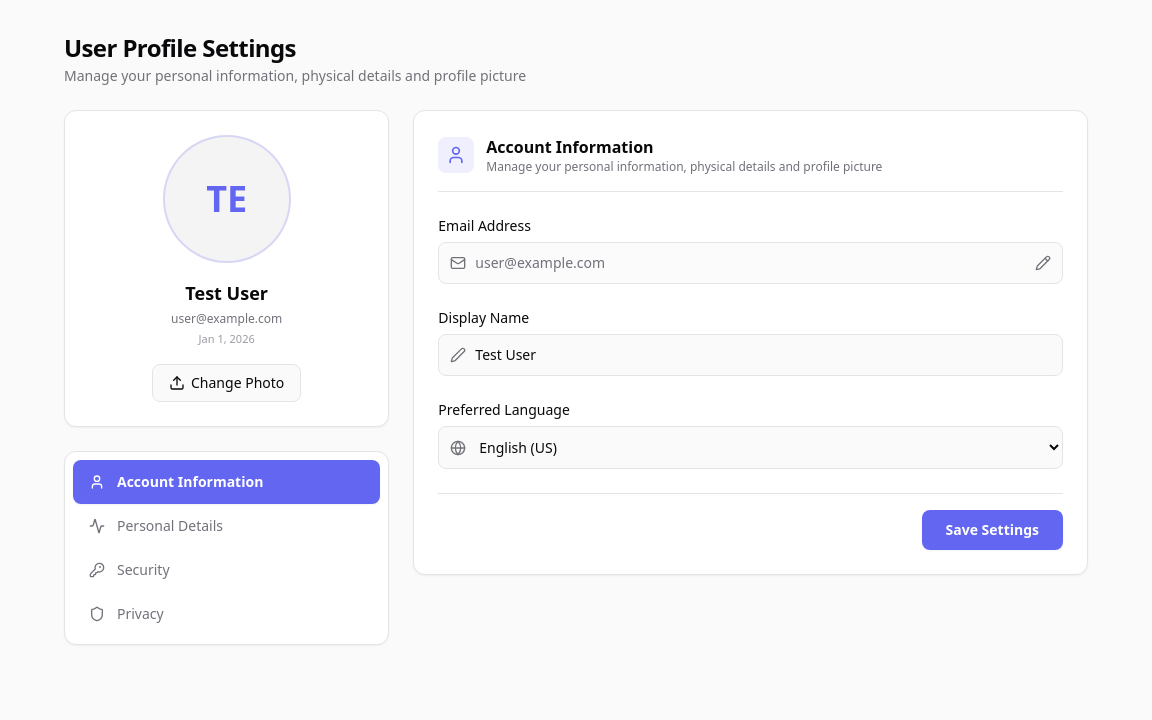
it: Profile Data Deletion and Account Removal › renders the Data Management & Privacy section with both deletion options
// Switch to Privacy tab
Click the tab "Privacy" at (140, 613), box [73,592,380,636]
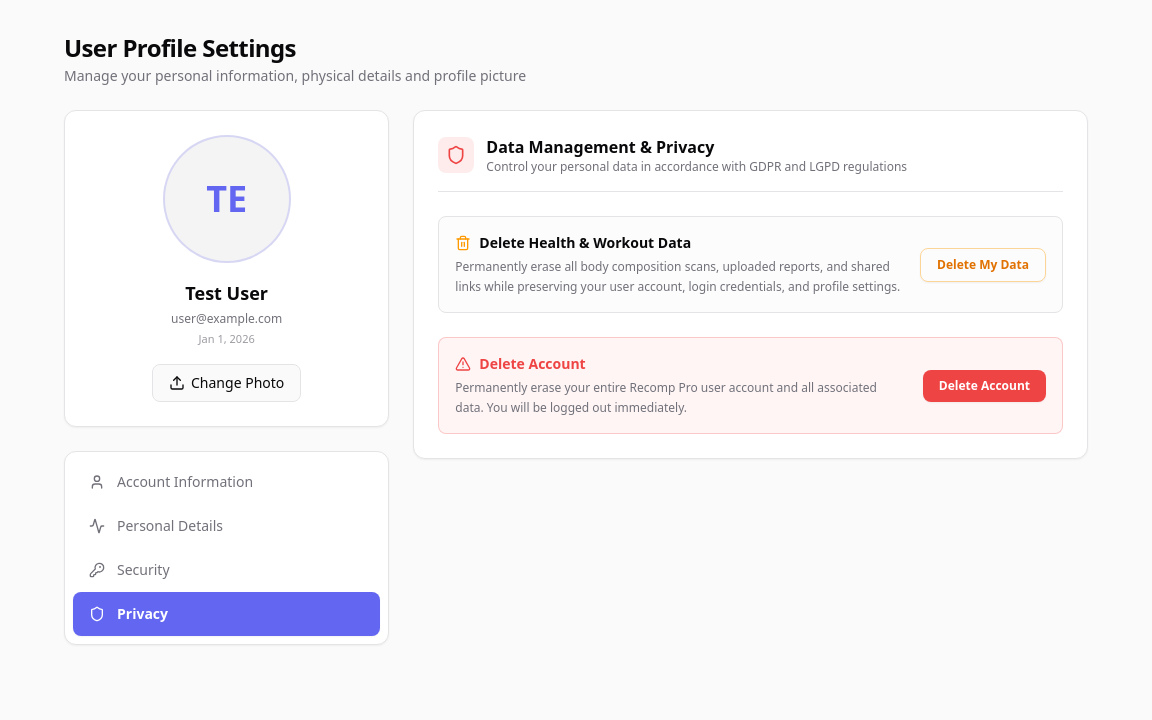
expect the heading "Data Management & Privacy" is shown: met, box [486,136,714,158]
expect the heading "Delete Health & Workout Data" is shown: met, box [455,233,691,252]
expect the button "Delete My Data" is shown: met, box [920,248,1046,282]
